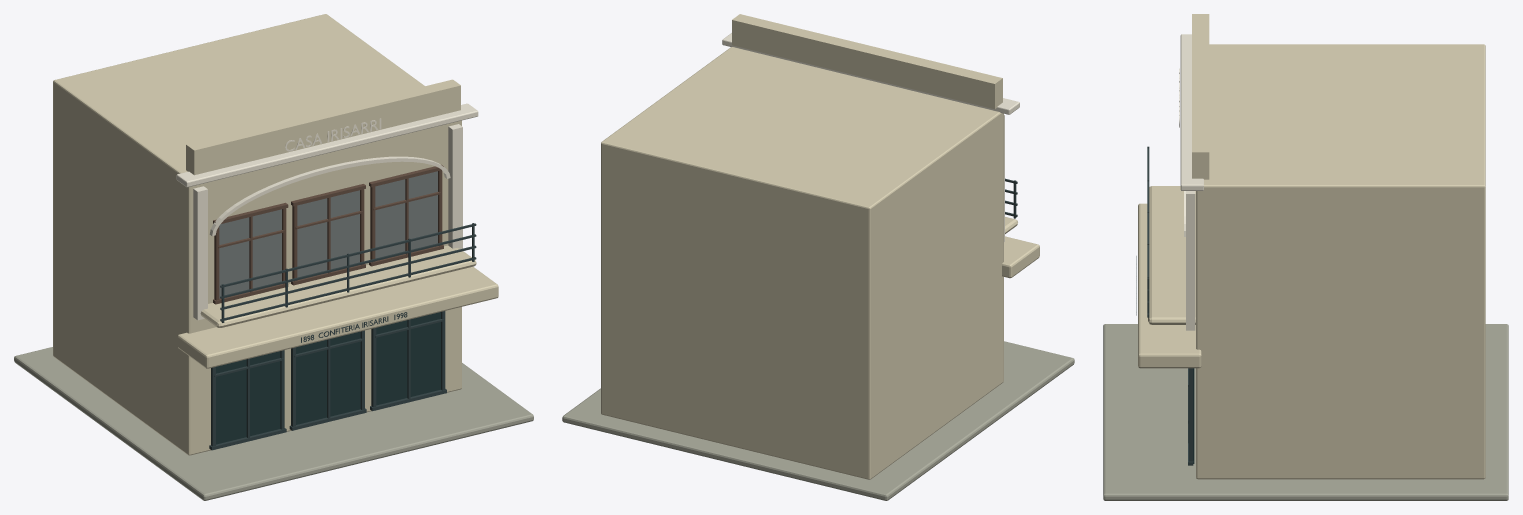
Rendered from gms-40.glb.
The picture shows the model from 3 angles, left to right: view 1: azimuth 30°, elevation 25°; view 2: azimuth 150°, elevation 25°; view 3: azimuth 270°, elevation 25°; orthographic projection. The views are drawn at different scales.
Visible parts, largest first — view 1: Narrow two-storey confectionery, Context plinth, Ground-floor shopfront recess, Three upper shutters recess, Ground-floor shopfront jamb, Facade side pilaster, Three upper shutters jamb; view 2: Narrow two-storey confectionery, Context plinth, Facade side pilaster; view 3: Narrow two-storey confectionery, Context plinth, Facade side pilaster, Ground-floor shopfront jamb.
Part boxes in pixels (box(x1,y1,x2,y2)): Narrow two-storey confectionery: box(53, 14, 498, 455); Context plinth: box(14, 347, 533, 500); Ground-floor shopfront recess: box(216, 312, 440, 444); Three upper shutters recess: box(219, 171, 437, 298); Ground-floor shopfront jamb: box(209, 223, 476, 450); Facade side pilaster: box(176, 103, 478, 320); Three upper shutters jamb: box(213, 164, 443, 304); Narrow two-storey confectionery: box(601, 14, 1039, 479); Context plinth: box(562, 341, 1074, 500); Facade side pilaster: box(722, 33, 1019, 241); Narrow two-storey confectionery: box(1138, 14, 1485, 479); Context plinth: box(1103, 324, 1508, 500); Facade side pilaster: box(1179, 34, 1203, 330); Ground-floor shopfront jamb: box(1136, 146, 1193, 465).
Size of the model in its own units: 7 by 6.34 by 7.
